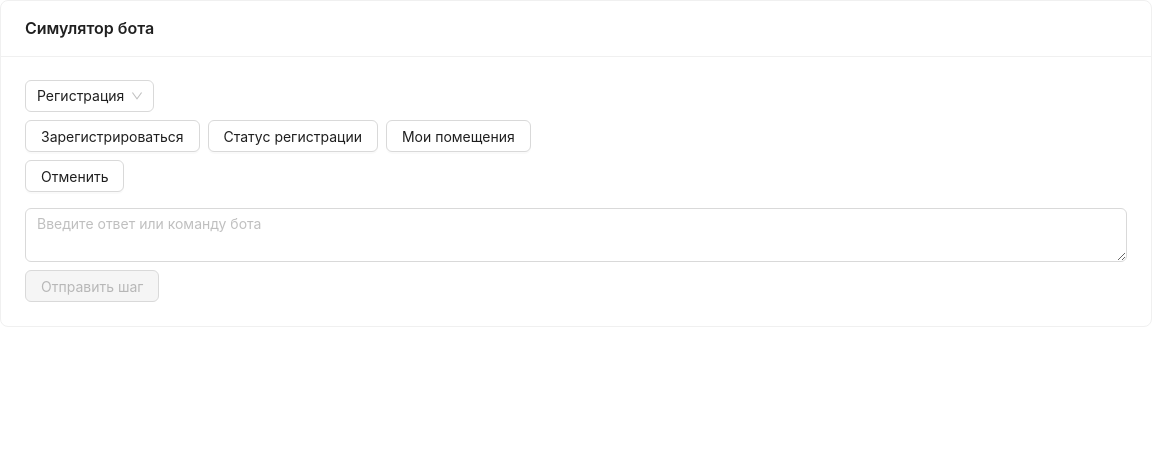
не показывает главное меню под ответами, сохраняя кнопки выбора сообщения
The width and height of the screenshot is (1152, 461).
Click the button "Зарегистрироваться" at (112, 136), box [25,120,200,152]
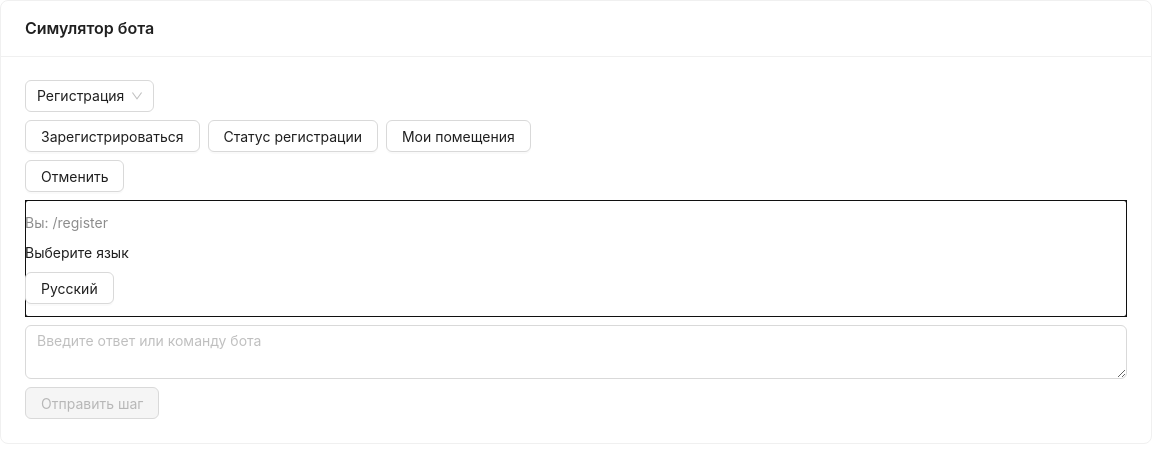
Check: the text "Выберите язык" is shown, box [25,244,129,261]
